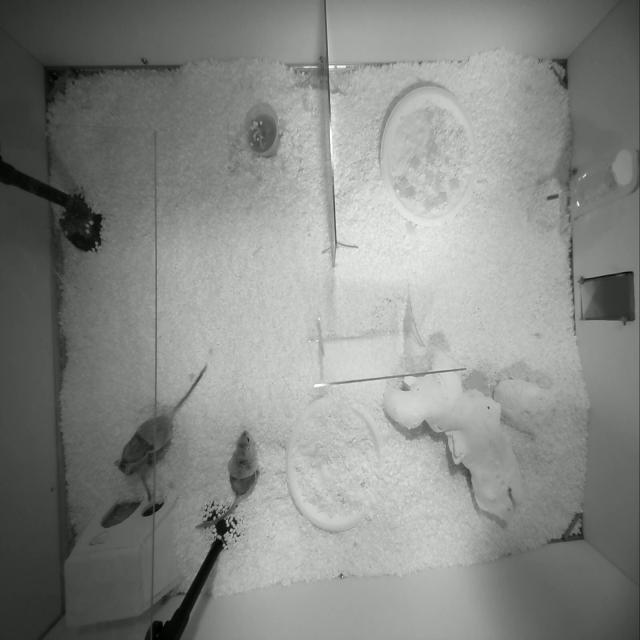adult_back: (196, 430, 259, 527)
adult_front: (115, 366, 206, 475)
pup_v_stripe: (129, 444, 169, 500)
